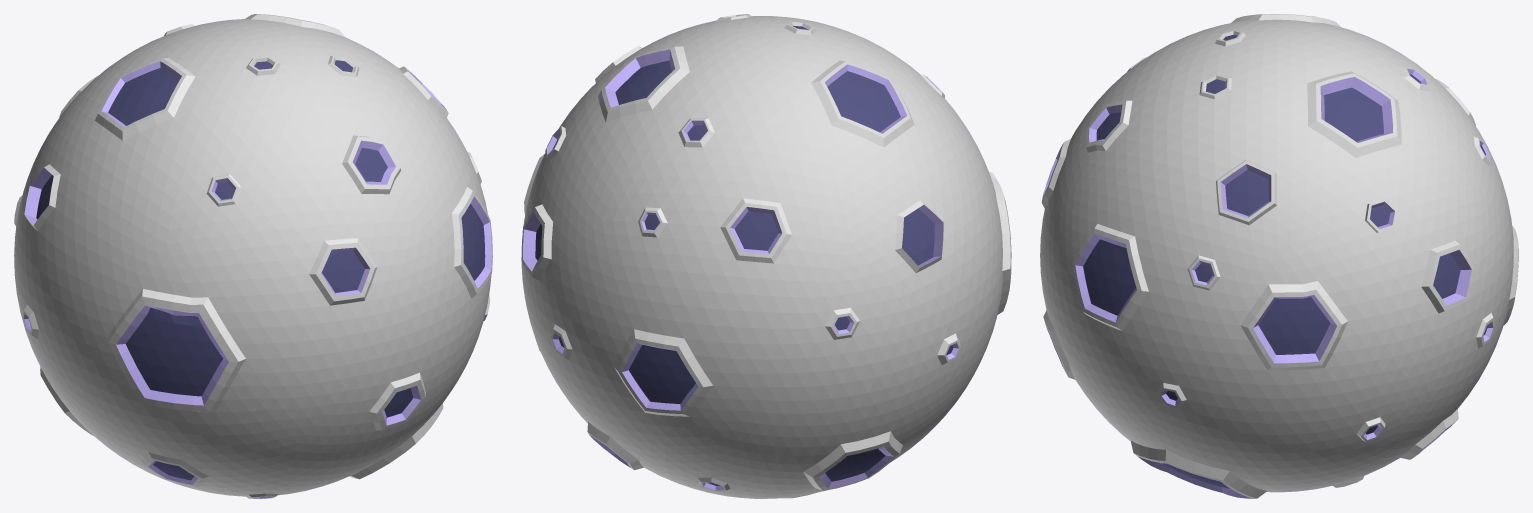
Rendered from moon.fbx.
The picture shows the model from 3 angles, left to right: view 1: azimuth 30°, elevation 25°; view 2: azimuth 150°, elevation 25°; view 3: azimuth 270°, elevation 25°; orthographic projection.
Visible parts, largest first — view 1: Icosphere; view 2: Icosphere; view 3: Icosphere.
Part boxes in pixels (left/top/right/bottom): Icosphere: left=14, top=14, right=492, bottom=498; Icosphere: left=521, top=14, right=1011, bottom=498; Icosphere: left=1040, top=14, right=1518, bottom=498.
Bounding box in the file's own units: 20.37 × 20.01 × 20.2.
